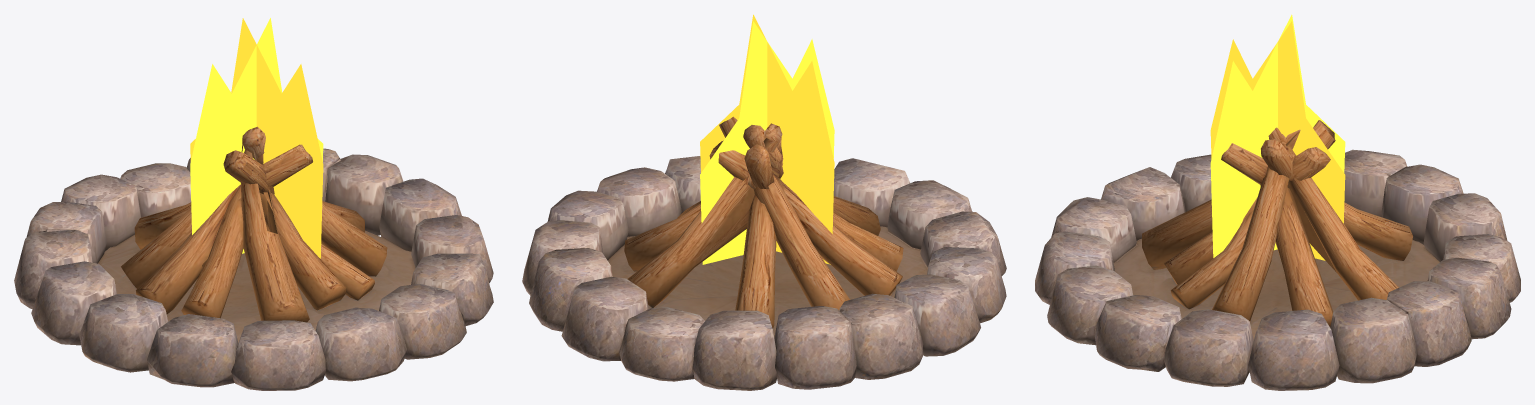
Rendered from Furn_Campfire.fbx.
The picture shows the model from 3 angles, left to right: view 1: azimuth 30°, elevation 25°; view 2: azimuth 150°, elevation 25°; view 3: azimuth 270°, elevation 25°; orthographic projection.
Visible parts, largest first — view 1: Furn_Campfire; view 2: Furn_Campfire; view 3: Furn_Campfire.
Boxes of the visible parts, x1,y1,x2,y2 form: Furn_Campfire: (14, 18, 493, 390); Furn_Campfire: (522, 14, 1006, 390); Furn_Campfire: (1035, 14, 1520, 390).
Size of the model in its own units: 1.5 by 0.93 by 1.5.
Materials: 2 (1 with a texture image).
